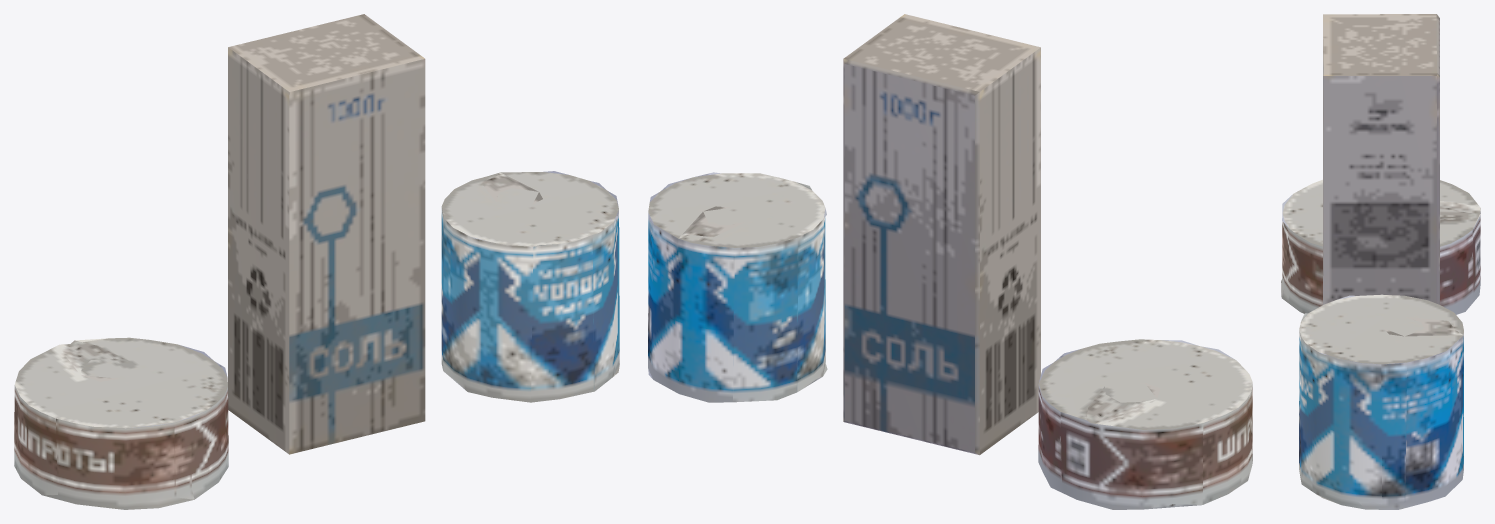
File: russian_food_cans_01.glb
The picture shows the model from 3 angles, left to right: view 1: azimuth 30°, elevation 25°; view 2: azimuth 150°, elevation 25°; view 3: azimuth 270°, elevation 25°; orthographic projection. The views are drawn at different scales.
Parts seen in each view (by area): view 1: mesh; view 2: mesh; view 3: mesh.
Part boxes in pixels (left/top/right/bottom): mesh: left=14, top=14, right=619, bottom=509; mesh: left=648, top=14, right=1252, bottom=509; mesh: left=1281, top=14, right=1480, bottom=509.
Bounding box in the file's own units: 0.1418 × 0.0849 × 0.0456.
Materials: 1 (1 with a texture image).
